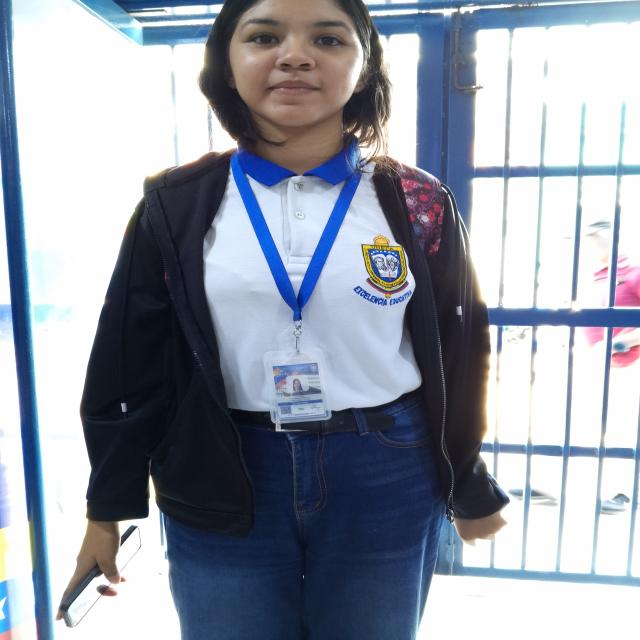carnet: (274, 359, 325, 418)
pantalon_oscuro: (160, 411, 446, 640)
